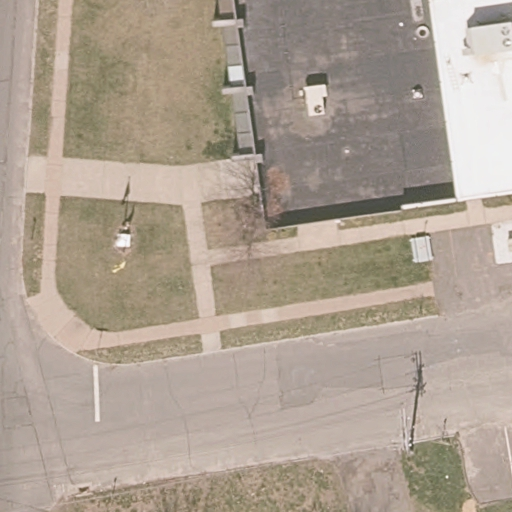DT: (390, 411, 414, 459)
